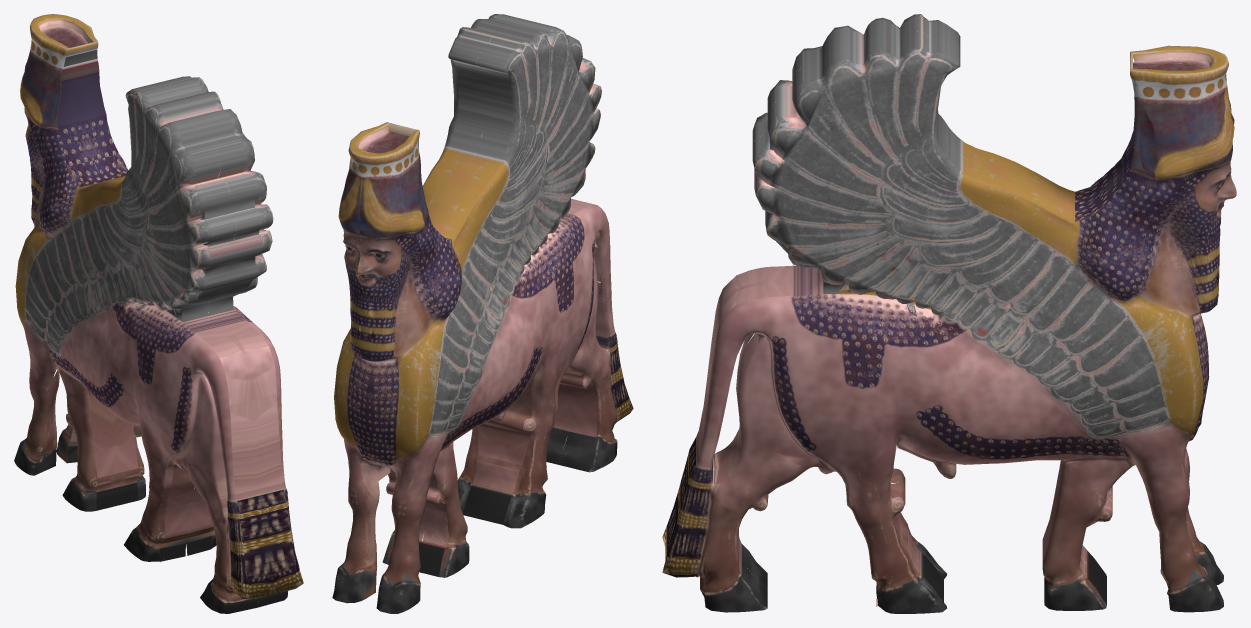
Rendered from pers_lamassu.glb.
3 renders of one model, left to right at view 1: azimuth 30°, elevation 25°; view 2: azimuth 150°, elevation 25°; view 3: azimuth 270°, elevation 25°, orthographic. The views are drawn at different scales.
Bounding box in the file's own units: 2.9 × 13.01 × 12.1.
Materials: 1 (1 with a texture image).
